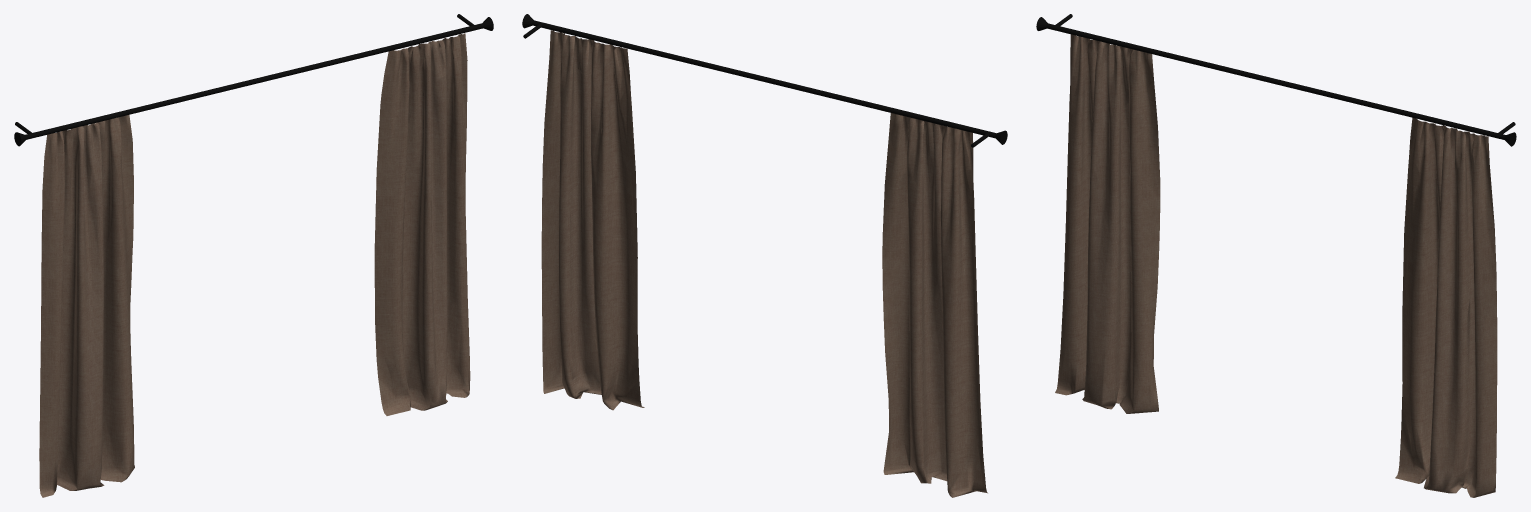
The model's file is Curtain.FBX.
The picture shows the model from 3 angles, left to right: view 1: azimuth 30°, elevation 25°; view 2: azimuth 150°, elevation 25°; view 3: azimuth 330°, elevation 25°; orthographic projection.
Visible parts, largest first — view 1: curtain; view 2: curtain; view 3: curtain.
Boxes of the visible parts, x1=… form: curtain: x1=14, y1=14, x2=493, y2=497; curtain: x1=522, y1=14, x2=1007, y2=497; curtain: x1=1036, y1=14, x2=1516, y2=497.
Size of the model in its own units: 339 by 251 by 35.97.
Materials: 2 (1 with a texture image).
